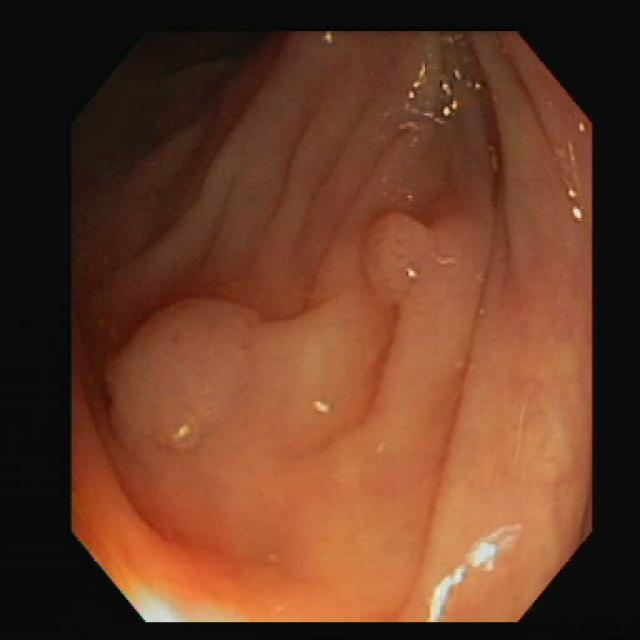tumor: (108, 300, 260, 449), (363, 211, 442, 296)
